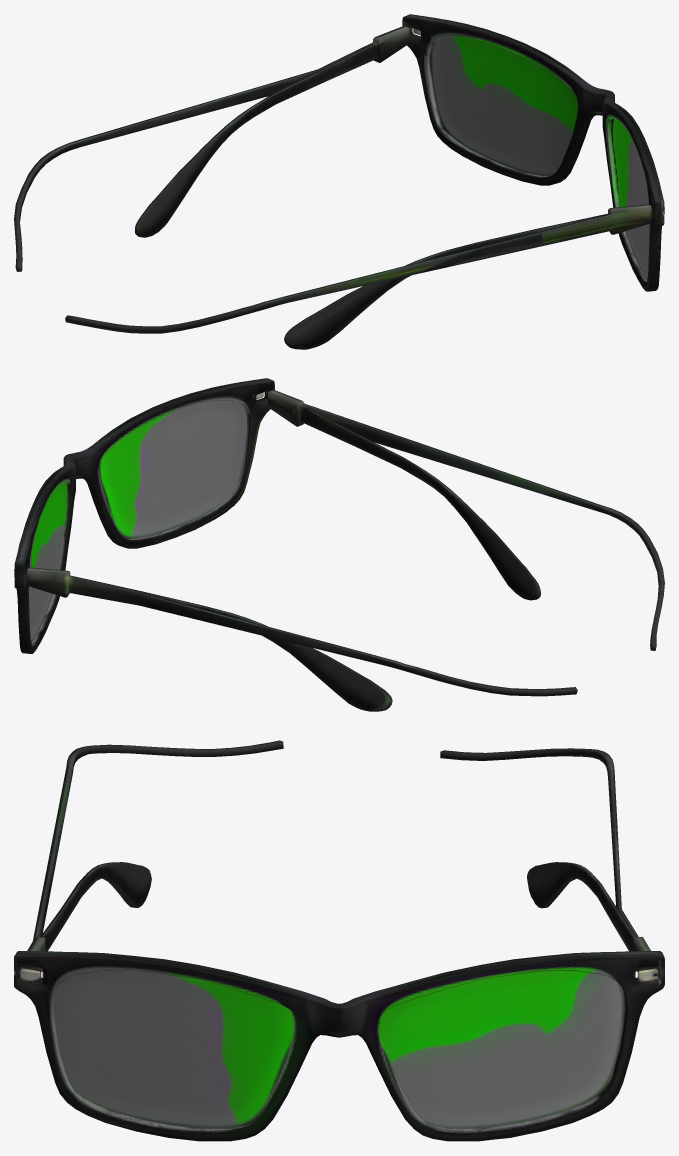
Rendered from oculos_quadrado_preto.glb.
3 renders of one model, top to bottom at view 1: azimuth 30°, elevation 25°; view 2: azimuth 150°, elevation 25°; view 3: azimuth 270°, elevation 25°, orthographic. The views are drawn at different scales.
Parts seen in each view (by area): view 1: oculos_quadrado_preto; view 2: oculos_quadrado_preto; view 3: oculos_quadrado_preto.
Boxes of the visible parts, x1,y1,x2,y2 form: oculos_quadrado_preto: (14,14,664,349); oculos_quadrado_preto: (14,378,664,711); oculos_quadrado_preto: (14,740,664,1141).
Bounding box in the file's own units: 0.6216 × 0.1406 × 0.4795.
1 material, 1 textured.
